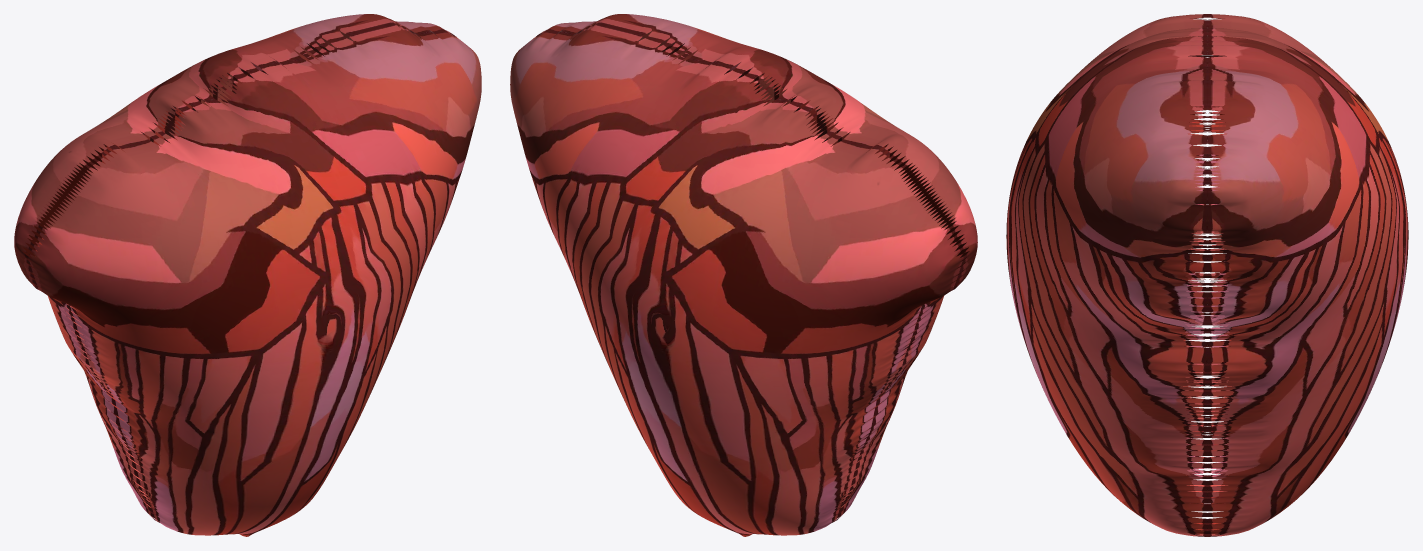
File: north_spur.glb
3 views of the same model, side by side, from view 1: azimuth 30°, elevation 25°; view 2: azimuth 150°, elevation 25°; view 3: azimuth 270°, elevation 25° (orthographic). The views are drawn at different scales.
Visible parts, largest first — view 1: north_spur; view 2: north_spur; view 3: north_spur.
Part boxes in pixels (<box>): north_spur: <box>14,14,481,536</box>; north_spur: <box>510,14,977,536</box>; north_spur: <box>1006,14,1408,536</box>.
Size of the model in its own units: 0.9887 by 0.9716 by 0.7048.
1 material, 1 textured.
